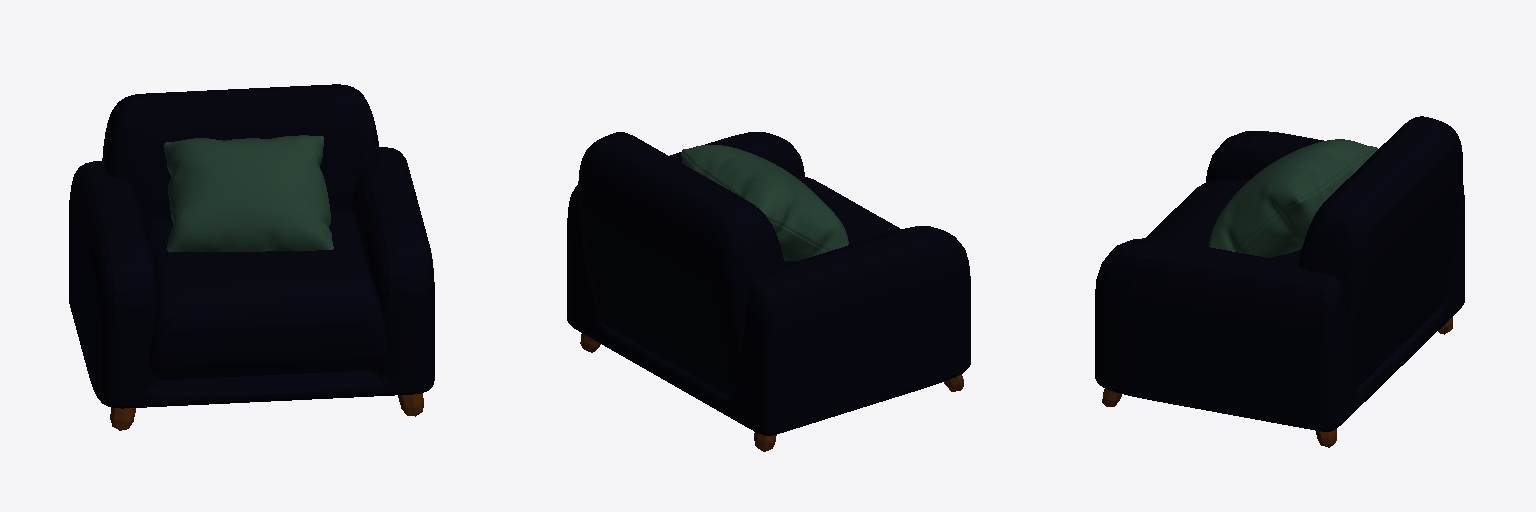
Rendered from sofa.obj.
3 views of the same model, side by side, from view 1: azimuth 30°, elevation 25°; view 2: azimuth 150°, elevation 25°; view 3: azimuth 270°, elevation 25° (orthographic).
Visible parts, largest first — view 1: Cube.386, Cube.387, Cube.405, Plane.012, Plane.437; view 2: Cube.386, Cube.405, Plane.012, Cube.387, Plane.437; view 3: Cube.386, Cube.405, Plane.012, Cube.387, Plane.437.
Boxes of the visible parts, box(x1,y1,x2,y2) form: Cube.386: box(69, 147, 434, 408); Cube.387: box(144, 209, 386, 379); Cube.405: box(102, 84, 379, 220); Plane.012: box(163, 135, 333, 251); Plane.437: box(110, 393, 423, 430); Cube.386: box(567, 132, 970, 435); Cube.405: box(578, 132, 785, 396); Plane.012: box(681, 145, 848, 260); Cube.387: box(784, 177, 900, 264); Plane.437: box(580, 333, 963, 451); Cube.386: box(1095, 131, 1464, 431); Cube.405: box(1298, 116, 1462, 388); Plane.012: box(1208, 139, 1377, 257); Cube.387: box(1146, 179, 1301, 262); Plane.437: box(1102, 317, 1452, 447).
Size of the model in its own units: 3.07 by 1.92 by 2.79.